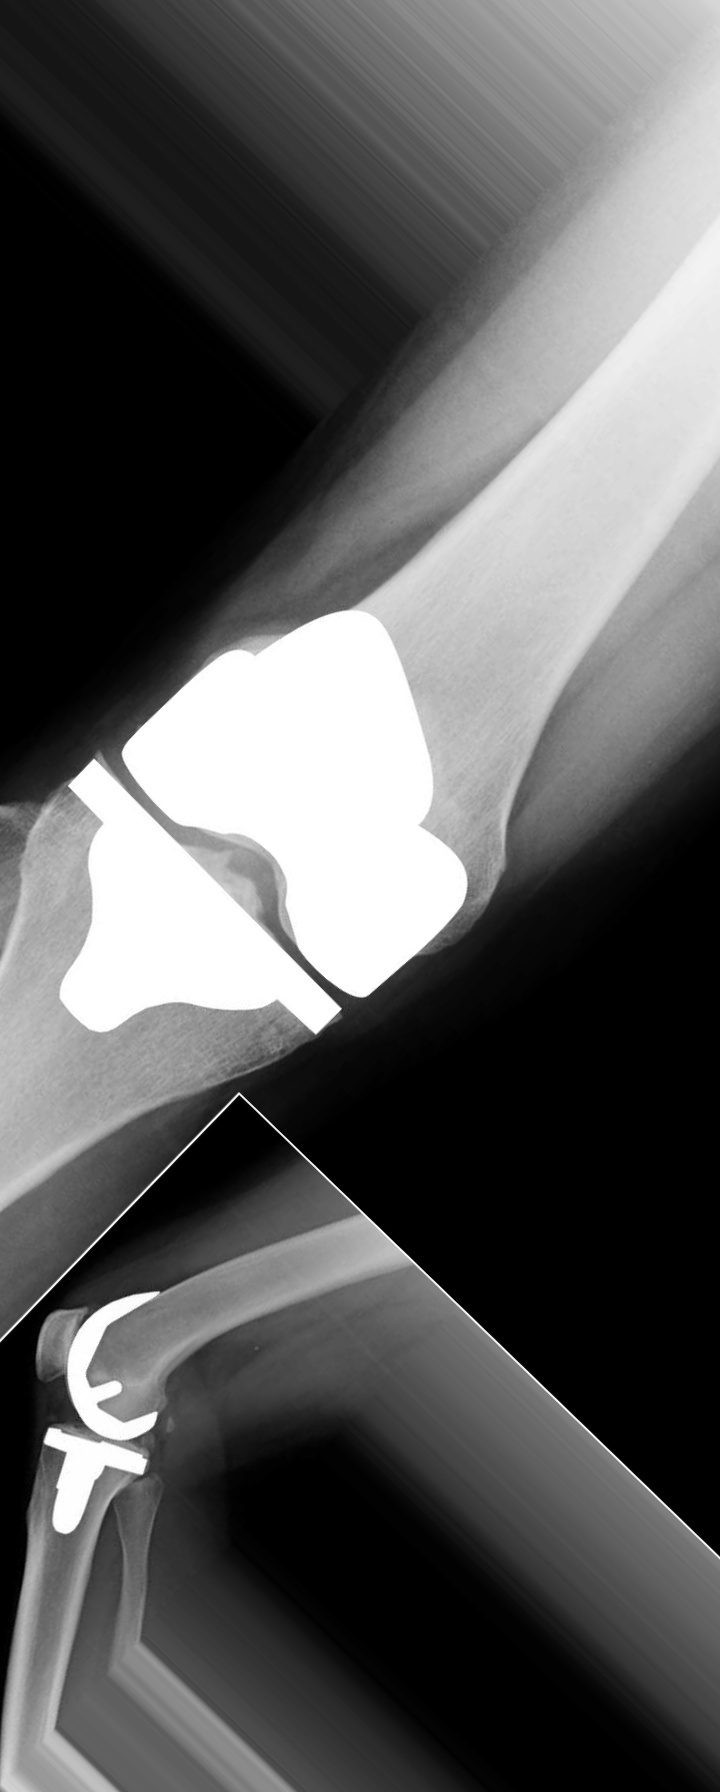Knee-Triathlon-Stryker: (66, 605, 472, 1037), (37, 1279, 161, 1541)
